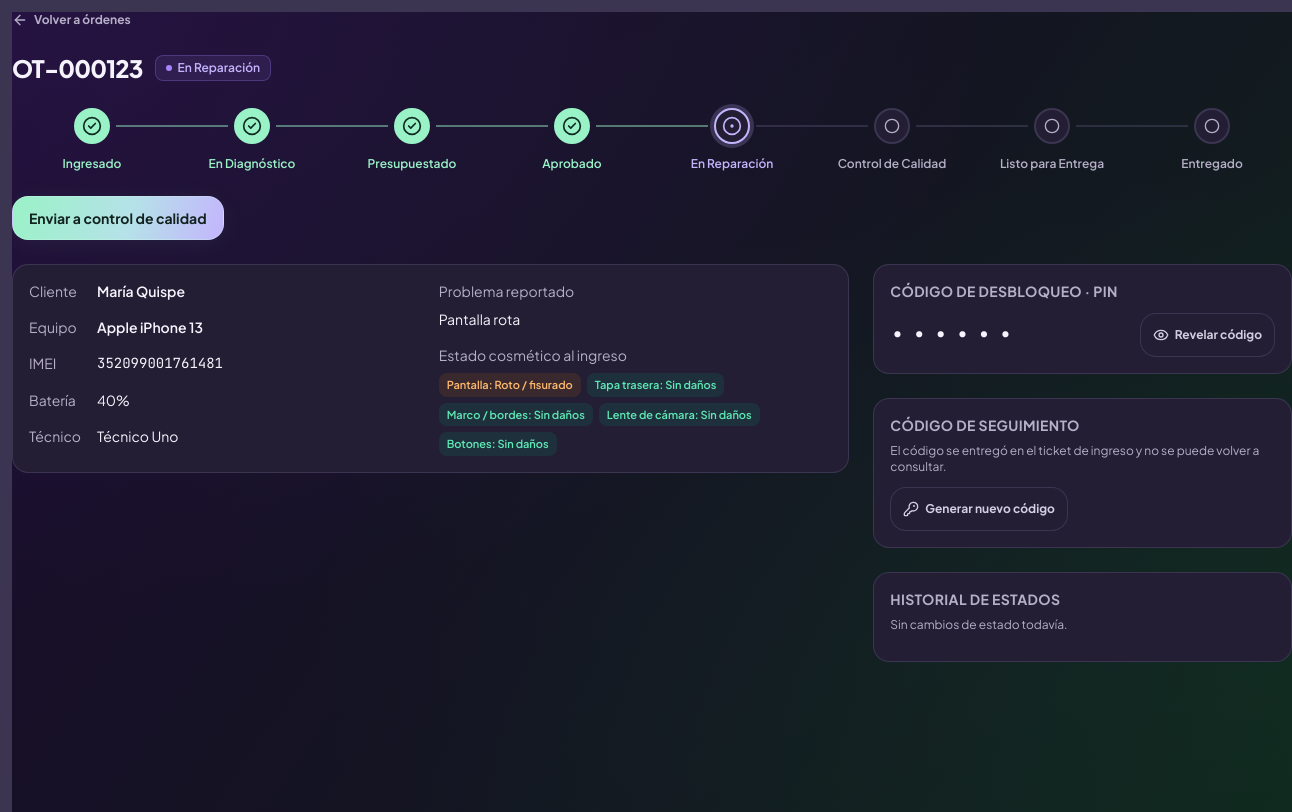
Test case: WorkOrderDetailPage › warns about concurrent changes instead of showing a raw error (RN-04) [004/RF-4.1]
Step 1. Click the button "Enviar a control de calidad" → (118, 218), box [12,196,224,240]
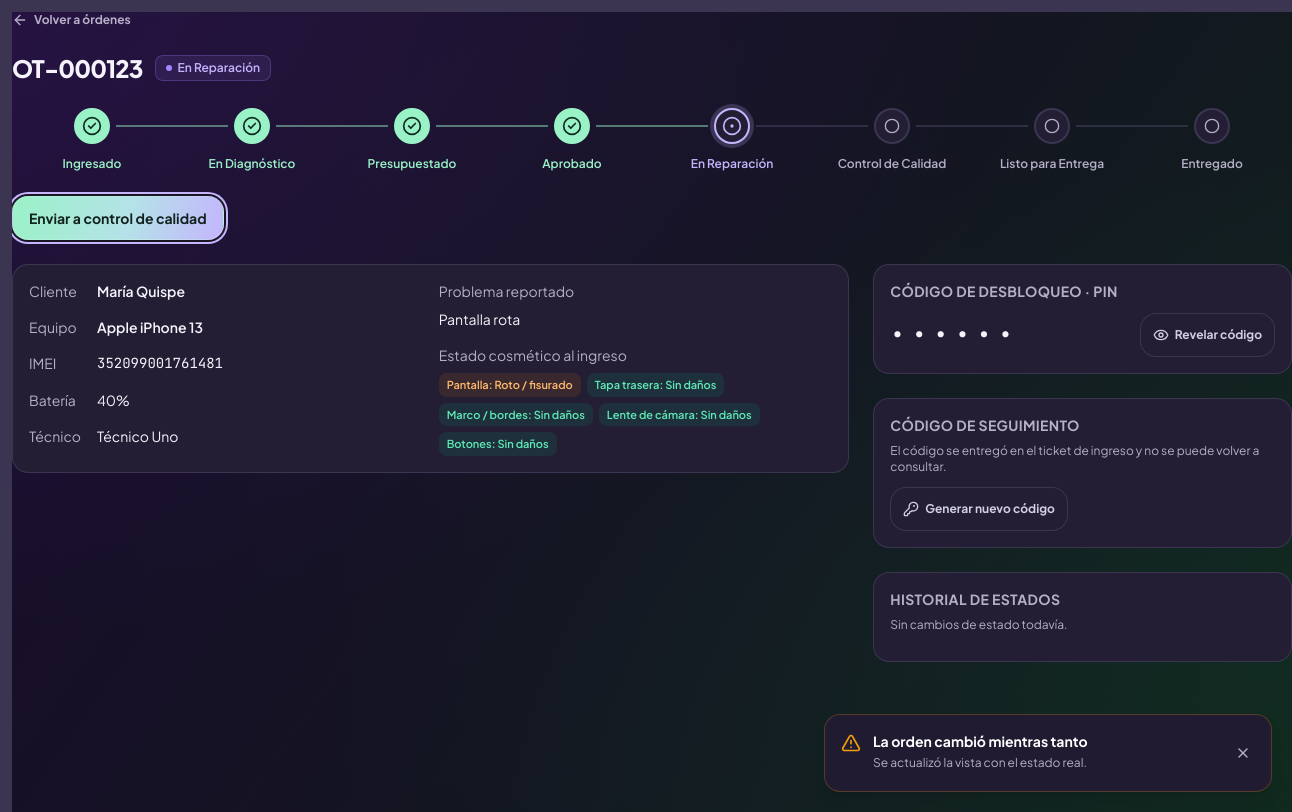
Expected: the heading "La orden cambió mientras tanto" is shown, [873,731,1088,751]
